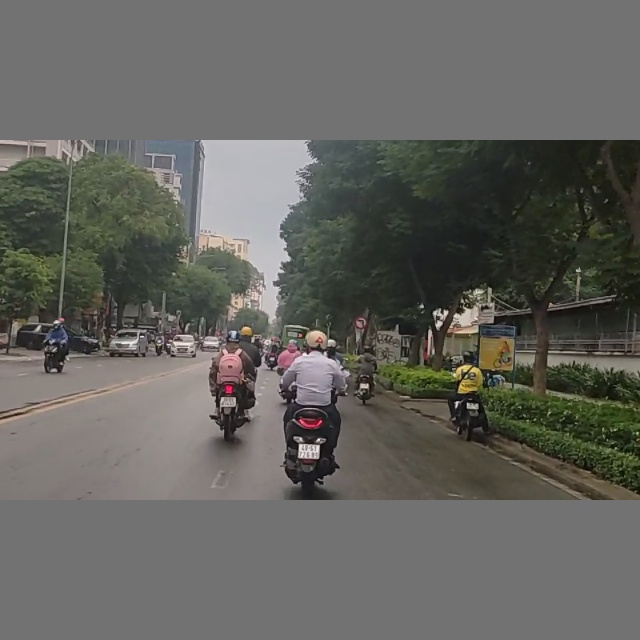P.123a: (354, 316, 369, 329)
